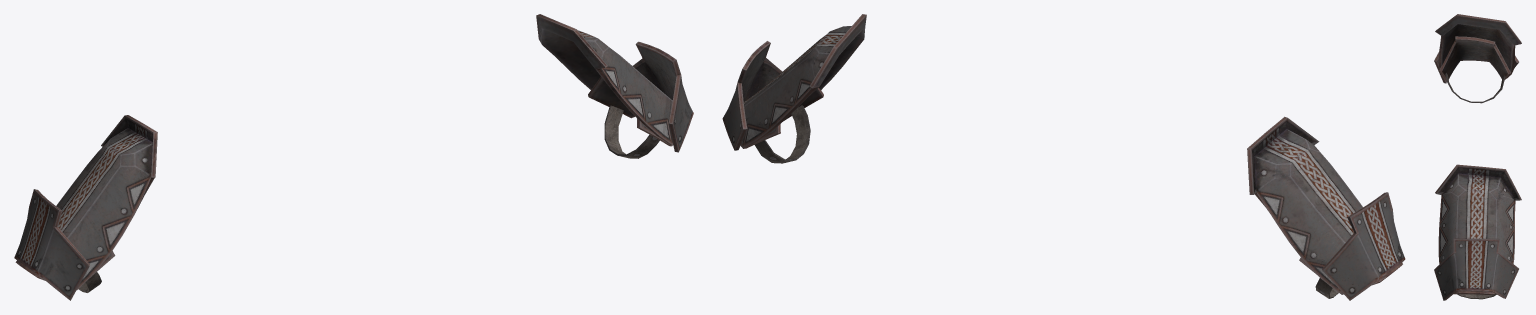
File: sk_dwarf_iron_bracer_heavy_c3.fbx
The picture shows the model from 3 angles, left to right: view 1: azimuth 30°, elevation 25°; view 2: azimuth 150°, elevation 25°; view 3: azimuth 270°, elevation 25°; orthographic projection. The views are drawn at different scales.
Visible parts, largest first — view 1: sk_dwarf_iron_bracer_heavy_c3; view 2: sk_dwarf_iron_bracer_heavy_c3; view 3: sk_dwarf_iron_bracer_heavy_c3.
Boxes of the visible parts, x1,y1,x2,y2 form: sk_dwarf_iron_bracer_heavy_c3: (14, 14, 693, 300); sk_dwarf_iron_bracer_heavy_c3: (722, 14, 1405, 300); sk_dwarf_iron_bracer_heavy_c3: (1434, 14, 1521, 300).
Bounding box in the file's own units: 1.2 × 0.1888 × 0.2635.
Materials: 1 (1 with a texture image).
